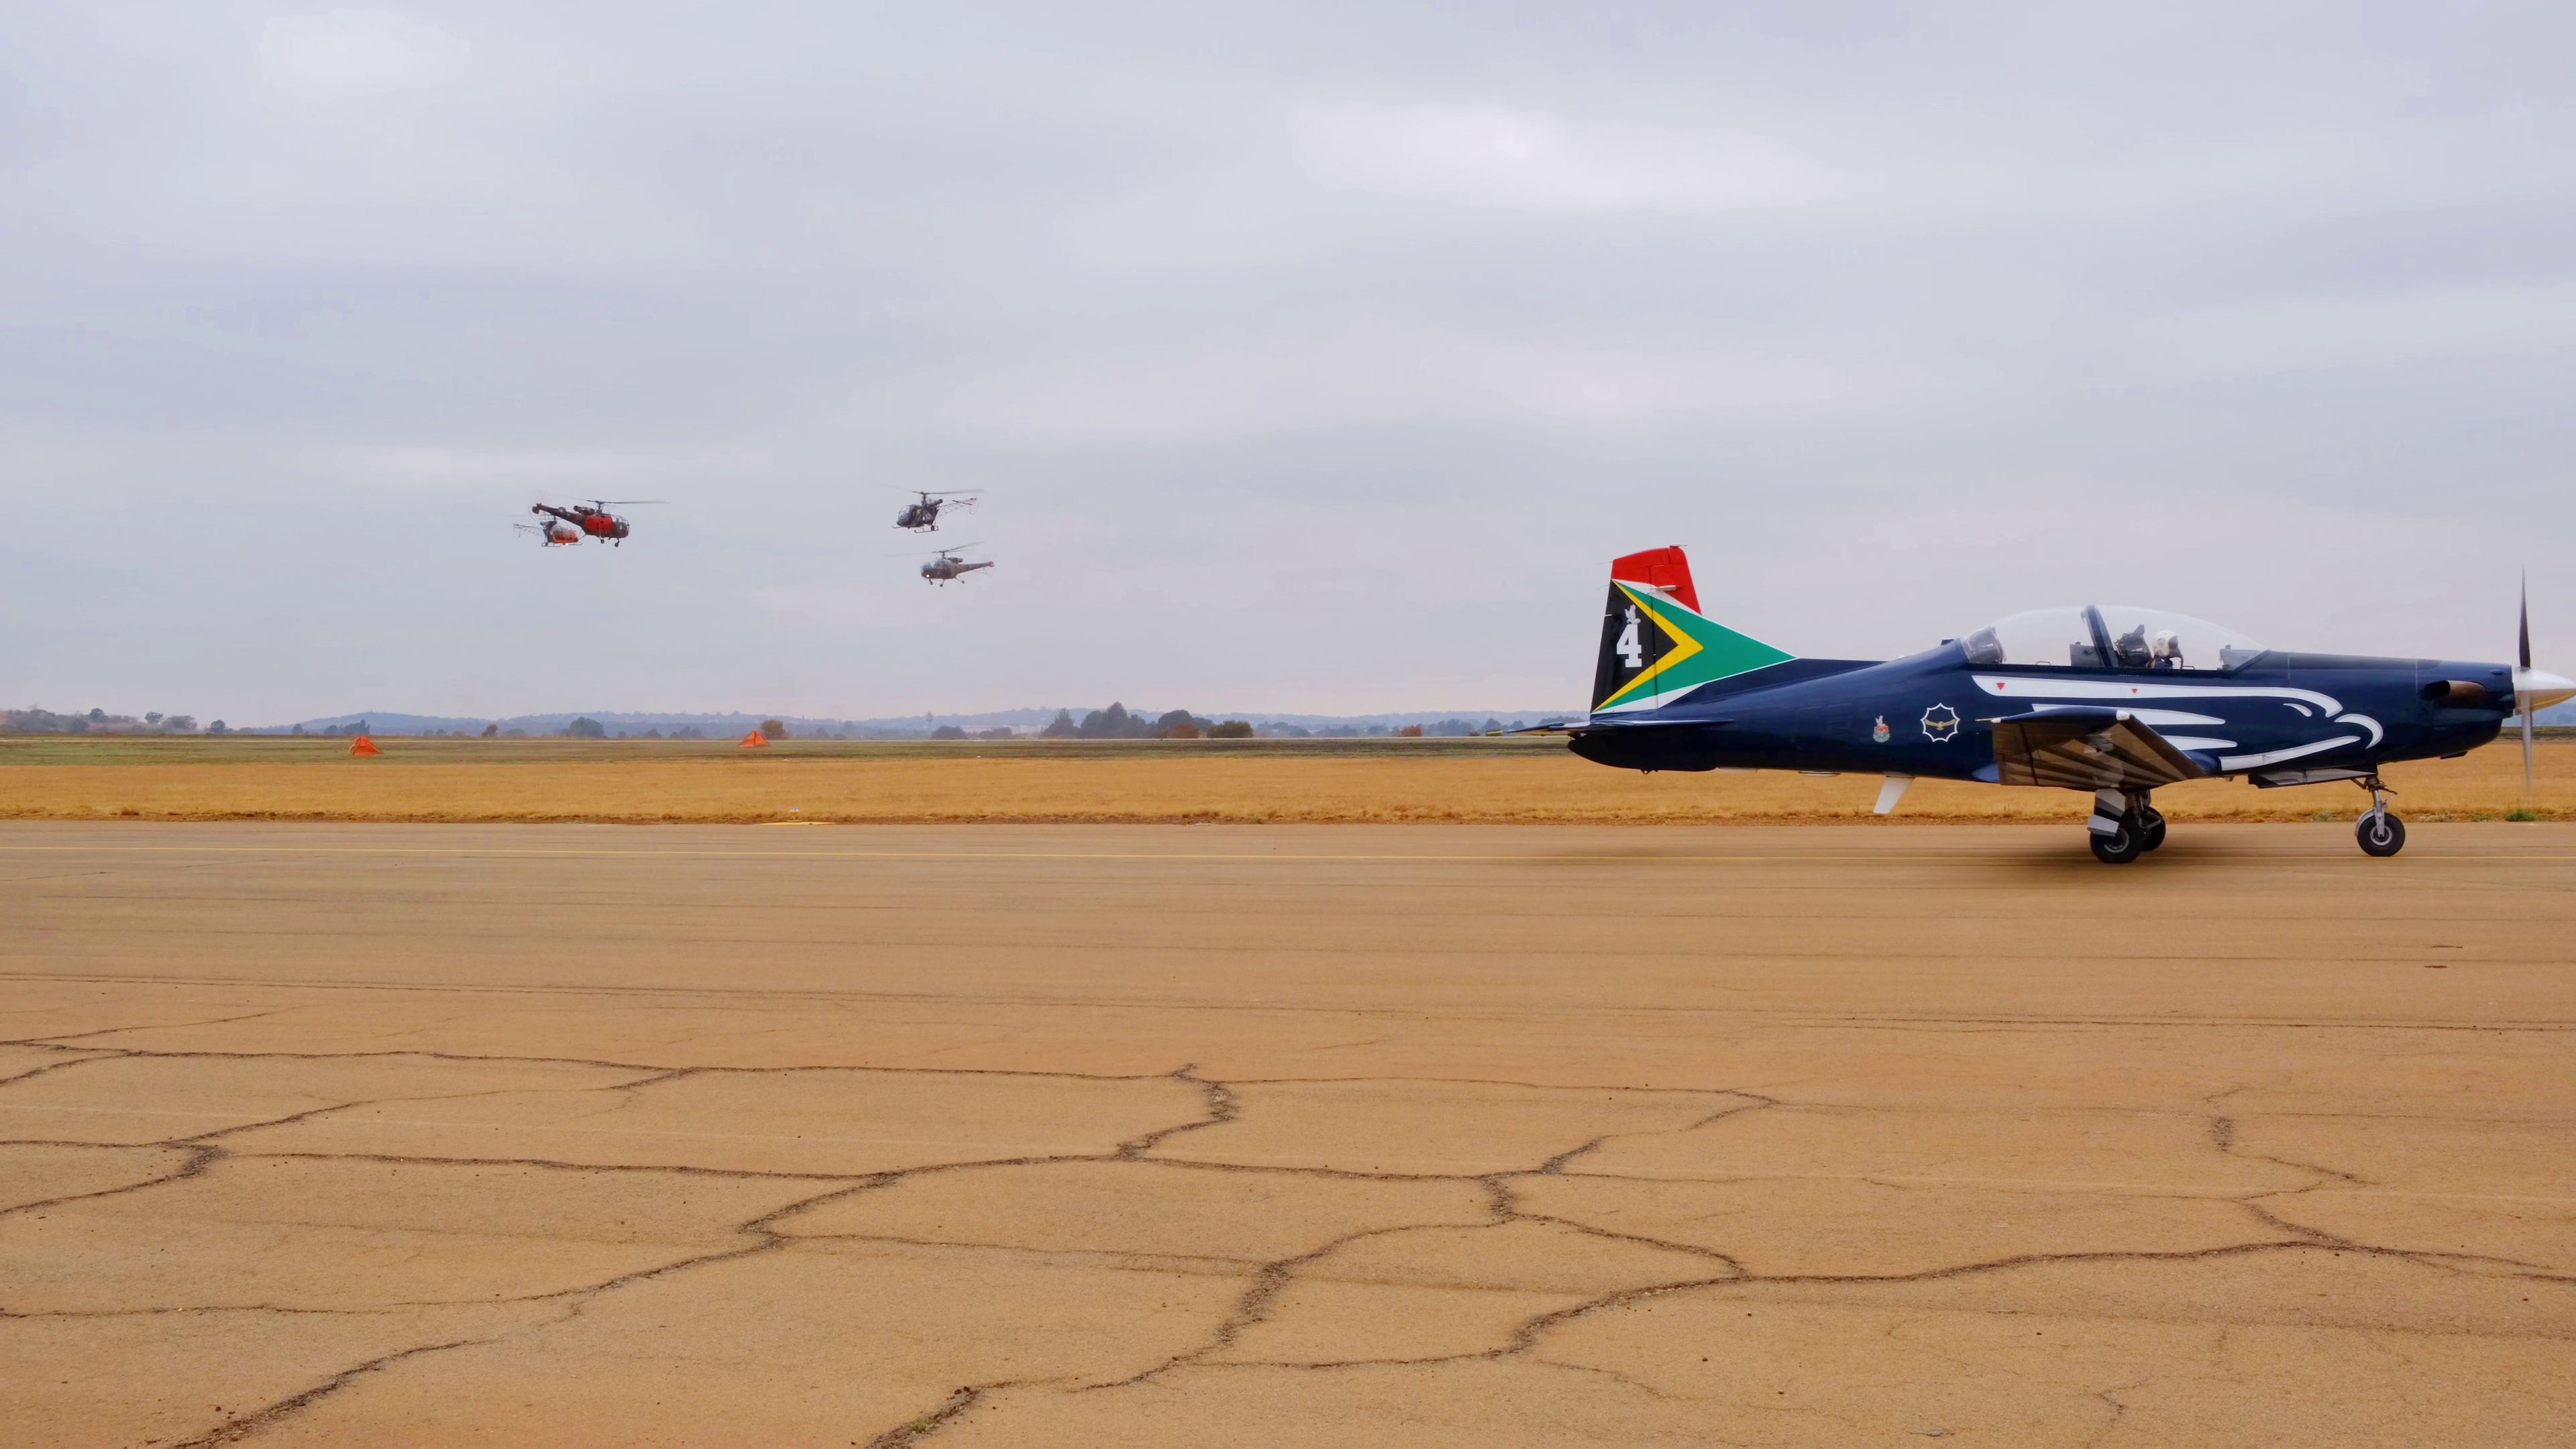heli: (533, 495, 663, 541), (897, 487, 980, 533), (918, 541, 996, 586), (511, 518, 579, 547)
plane: (1571, 541, 2576, 865)
